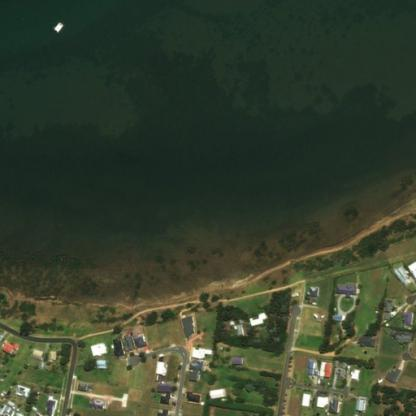ship: (53, 21, 62, 32)
